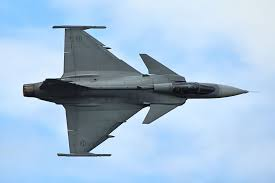fighter: (20, 23, 252, 158)
